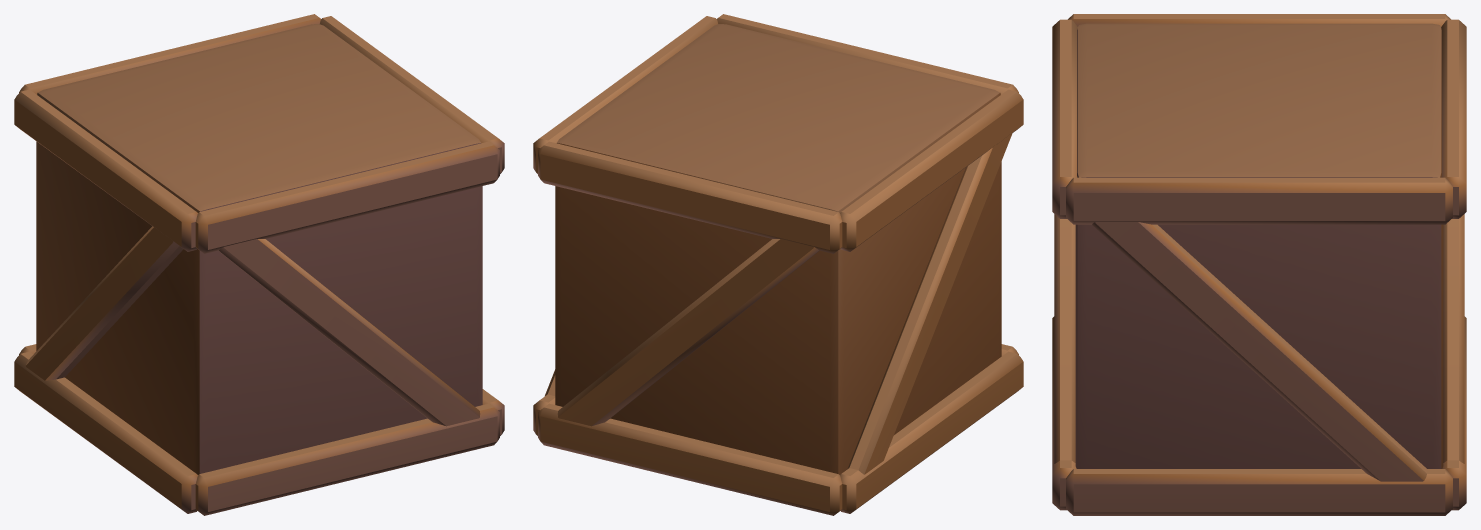
The model's file is Crate.fbx.
The picture shows the model from 3 angles, left to right: view 1: azimuth 30°, elevation 25°; view 2: azimuth 150°, elevation 25°; view 3: azimuth 270°, elevation 25°; orthographic projection. The views are drawn at different scales.
Visible parts, largest first — view 1: SM_Prop_Crate; view 2: SM_Prop_Crate; view 3: SM_Prop_Crate.
Part boxes in pixels (box(x1,y1,x2,y2)): SM_Prop_Crate: box(14, 14, 504, 515); SM_Prop_Crate: box(533, 14, 1023, 515); SM_Prop_Crate: box(1052, 14, 1466, 515).
Size of the model in its own units: 2.14 by 1.9 by 2.14.
